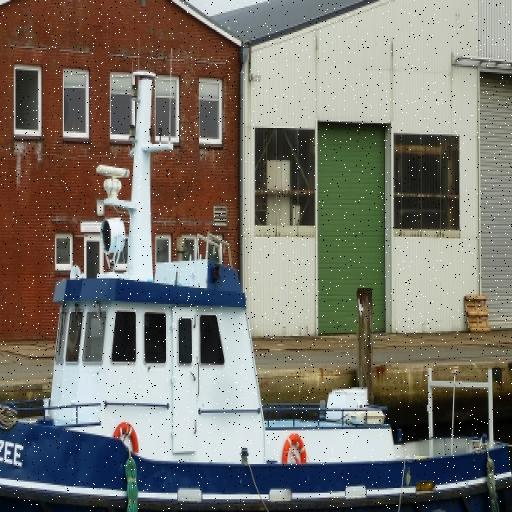tugboat: (1, 63, 512, 512)
